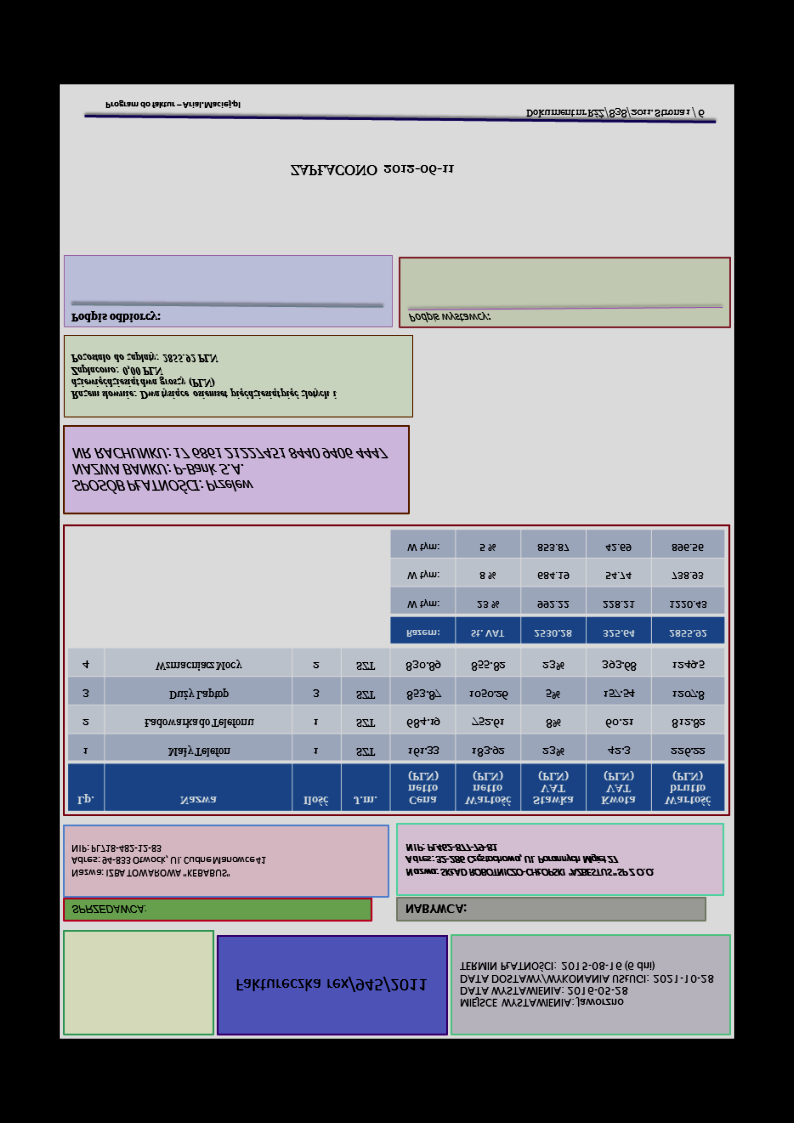Table: (66, 646, 725, 813), (389, 528, 726, 645)
TextBox: (71, 443, 388, 494), (68, 351, 338, 402), (457, 958, 716, 1010), (402, 841, 655, 879), (68, 842, 268, 881), (232, 973, 428, 995), (524, 104, 706, 121), (286, 162, 456, 178), (103, 100, 242, 111), (69, 309, 163, 325), (406, 309, 490, 325), (69, 902, 148, 917), (403, 901, 468, 917)
